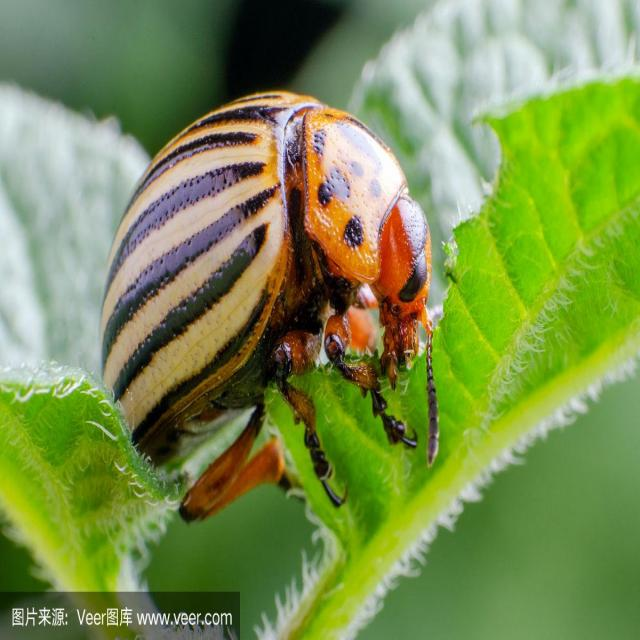ShuCaiHuaBanChong-Grown-: (81, 77, 459, 517)
